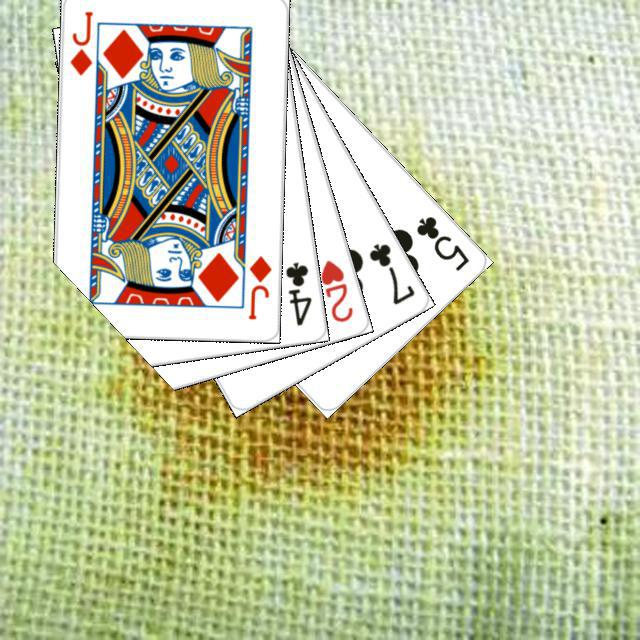2h: (315, 255, 355, 324)
4c: (280, 257, 314, 327)
5c: (411, 211, 471, 273)
7c: (363, 238, 417, 307)
Jd: (243, 251, 273, 322), (65, 6, 95, 77)
